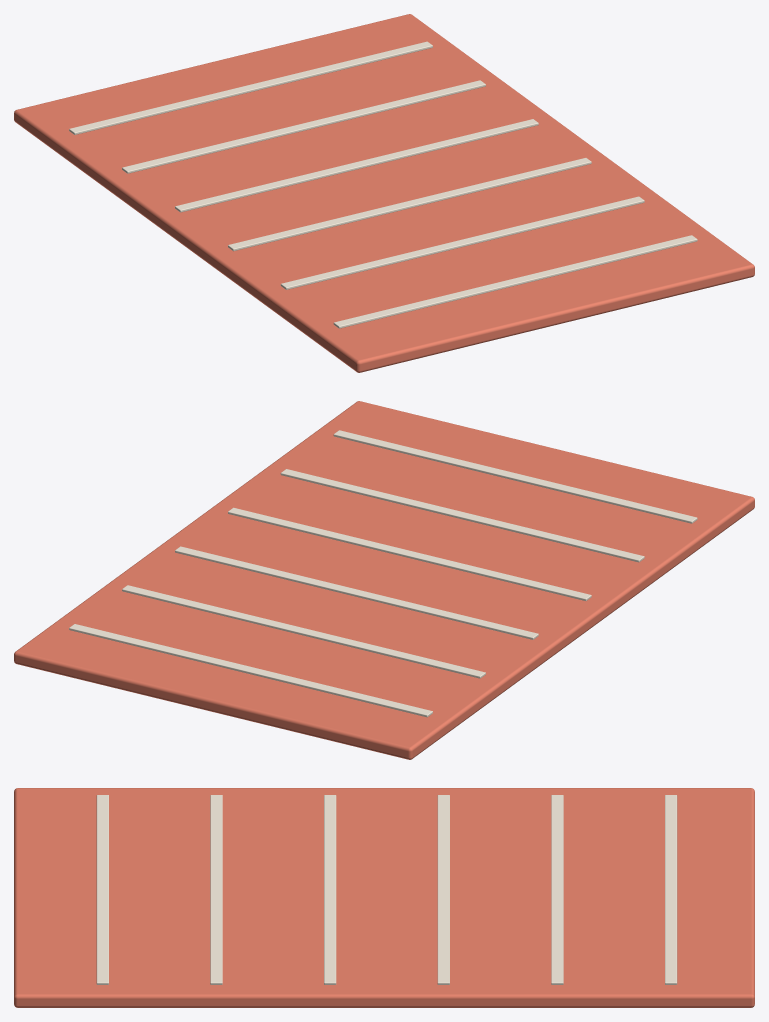
The model's file is rug-corner.glb.
The picture shows the model from 3 angles, top to bottom: view 1: azimuth 30°, elevation 25°; view 2: azimuth 150°, elevation 25°; view 3: azimuth 270°, elevation 25°; orthographic projection. The views are drawn at different scales.
Parts seen in each view (by area): view 1: rug_corner; view 2: rug_corner; view 3: rug_corner.
Boxes of the visible parts, <box> form: rug_corner: <box>14,14,754,372</box>; rug_corner: <box>14,401,754,759</box>; rug_corner: <box>14,788,754,1007</box>.
Bounding box in the file's own units: 1 × 0.036 × 1.5.
